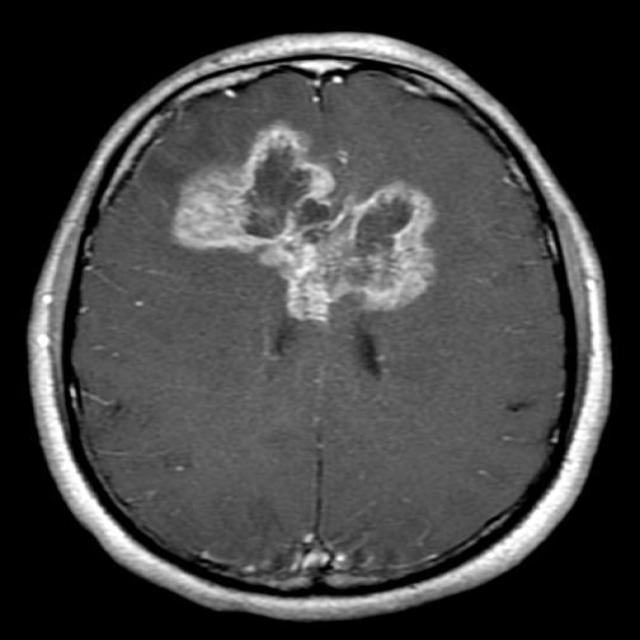Tumor-Cell: (180, 106, 454, 362)
